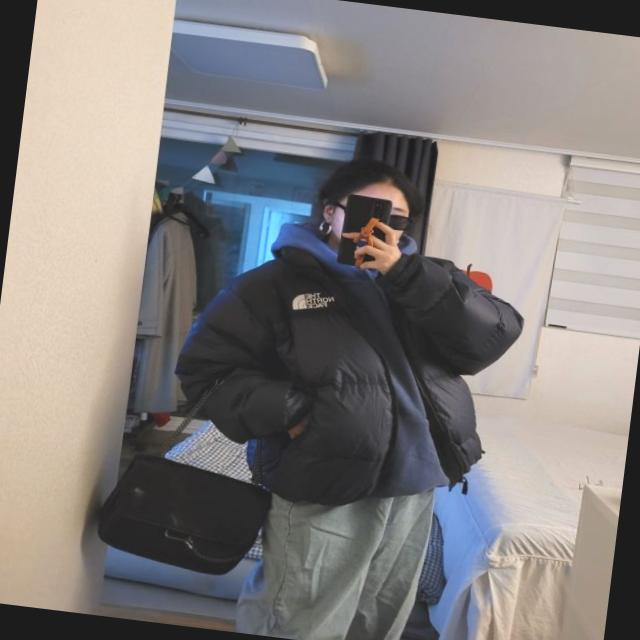hoodies: (244, 211, 476, 504)
padding: (160, 225, 532, 528)
